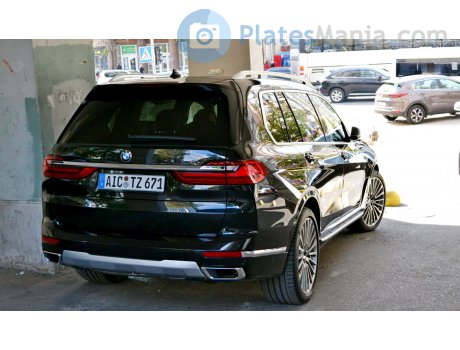License Plates: (104, 174, 160, 189)
